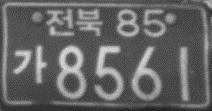1: (175, 44, 192, 103)
5: (93, 43, 123, 101), (142, 8, 167, 39)
6: (129, 45, 162, 103)
8: (55, 44, 87, 100), (115, 8, 139, 37)
가: (12, 44, 47, 84)
전북_O: (44, 8, 103, 38)
